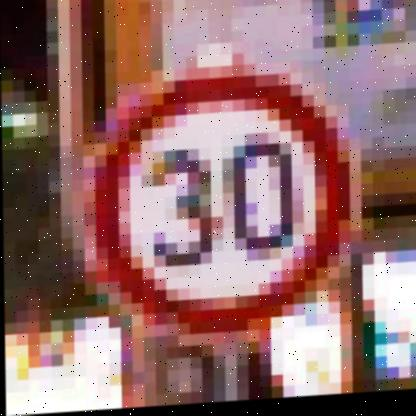Speed Limit -30-: (77, 62, 360, 349)
